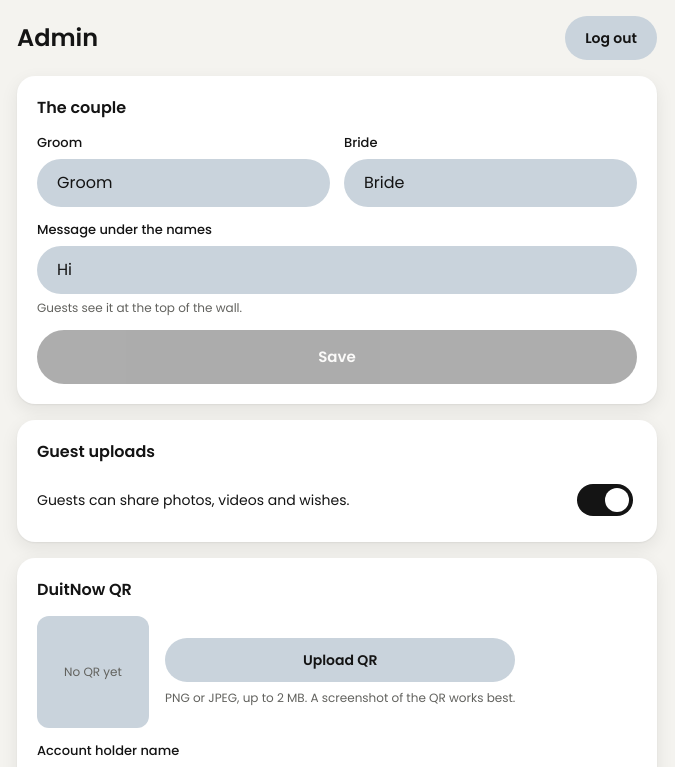
Scenario: AdminDashboard › saves the couple's details
The image size is (675, 767).
Expected: the button "Save" is disabled, [37,330,637,384]
Replace the text in the field labelled "Groom" with "Ali" at (184, 183), box [37,159,330,207]
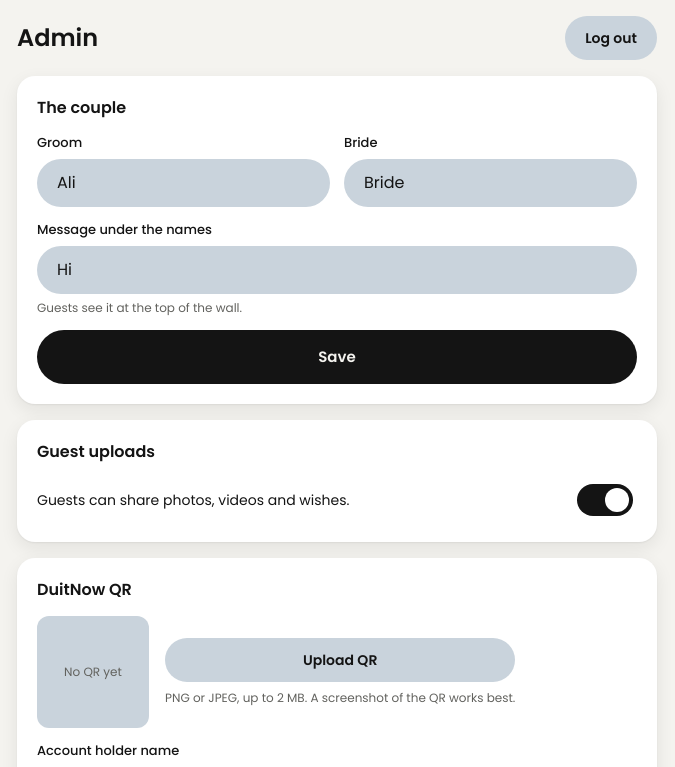
Click the button "Save" at (337, 357), box [37,330,637,384]
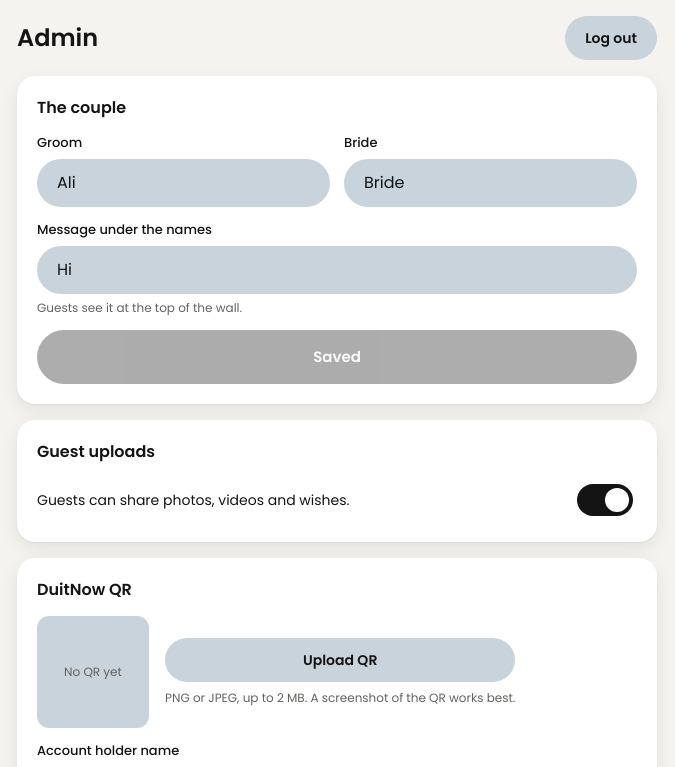
Now the button "Saved" is shown, box [37,330,637,384]
